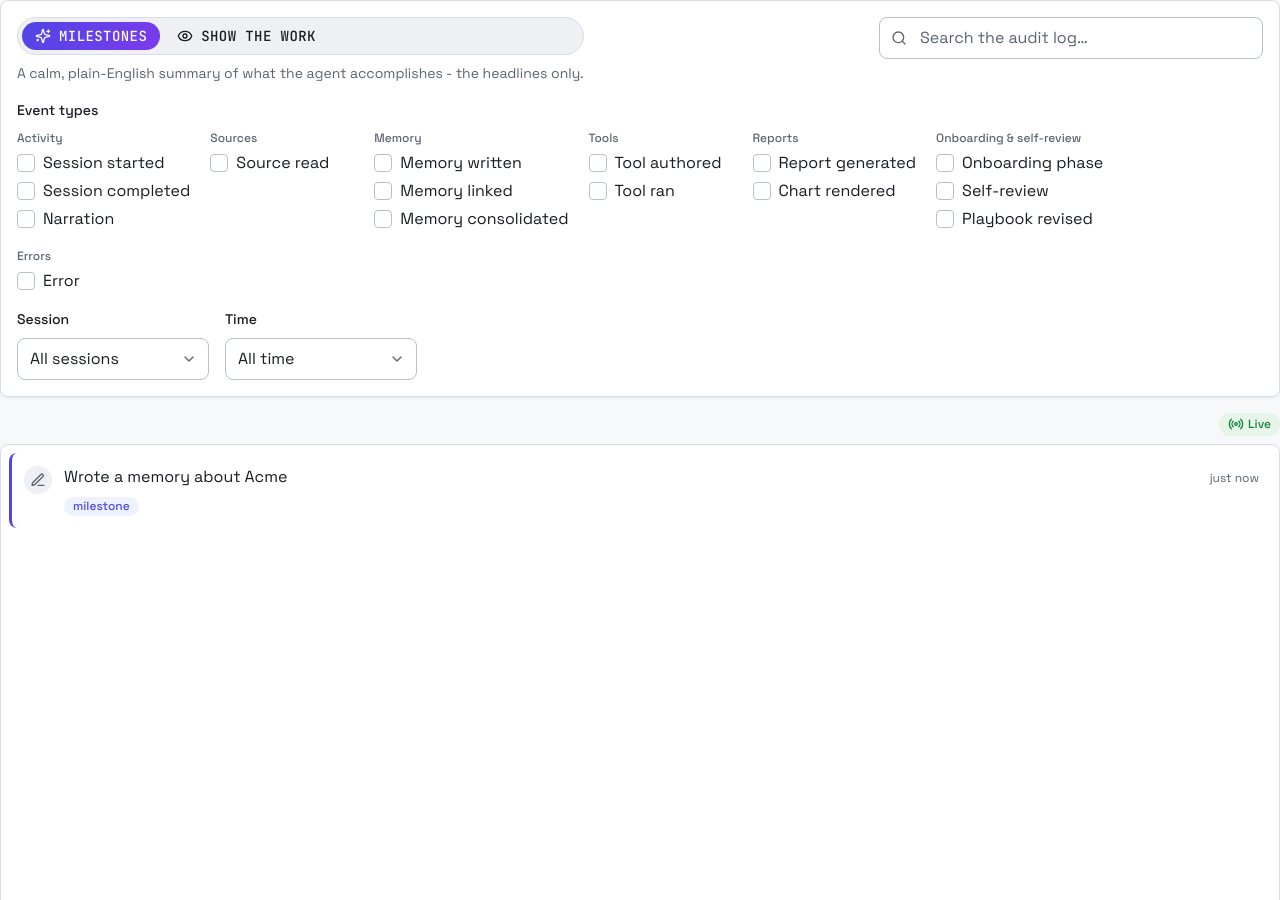
it: GlassCockpit › reveals detail after flipping the altitude toggle to Show the work
The image size is (1280, 900).
Click the radio button labelled "Show the work": [247, 36] box [164,22,329,50]
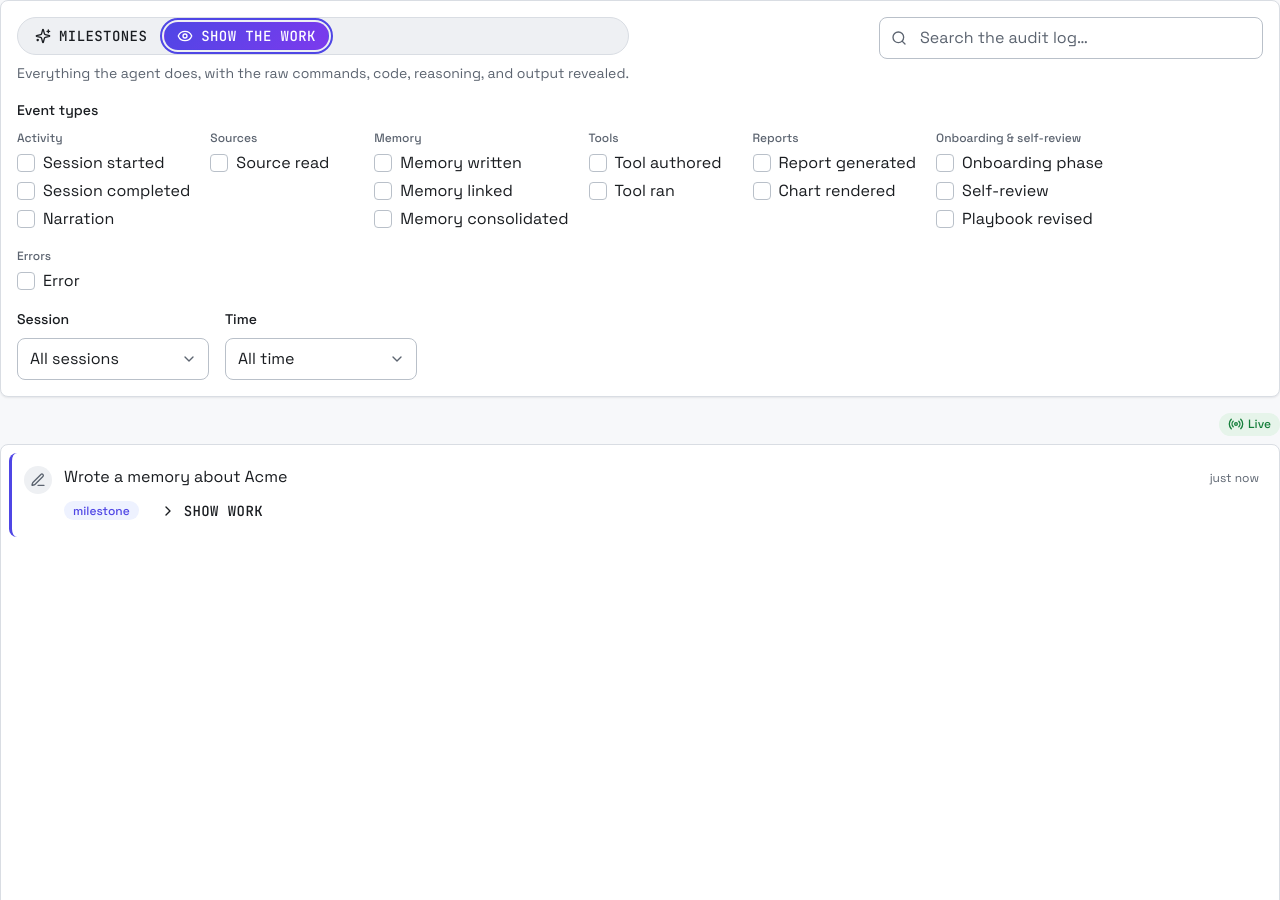
Click the button "Show work": [211, 511] box [147,497,276,525]
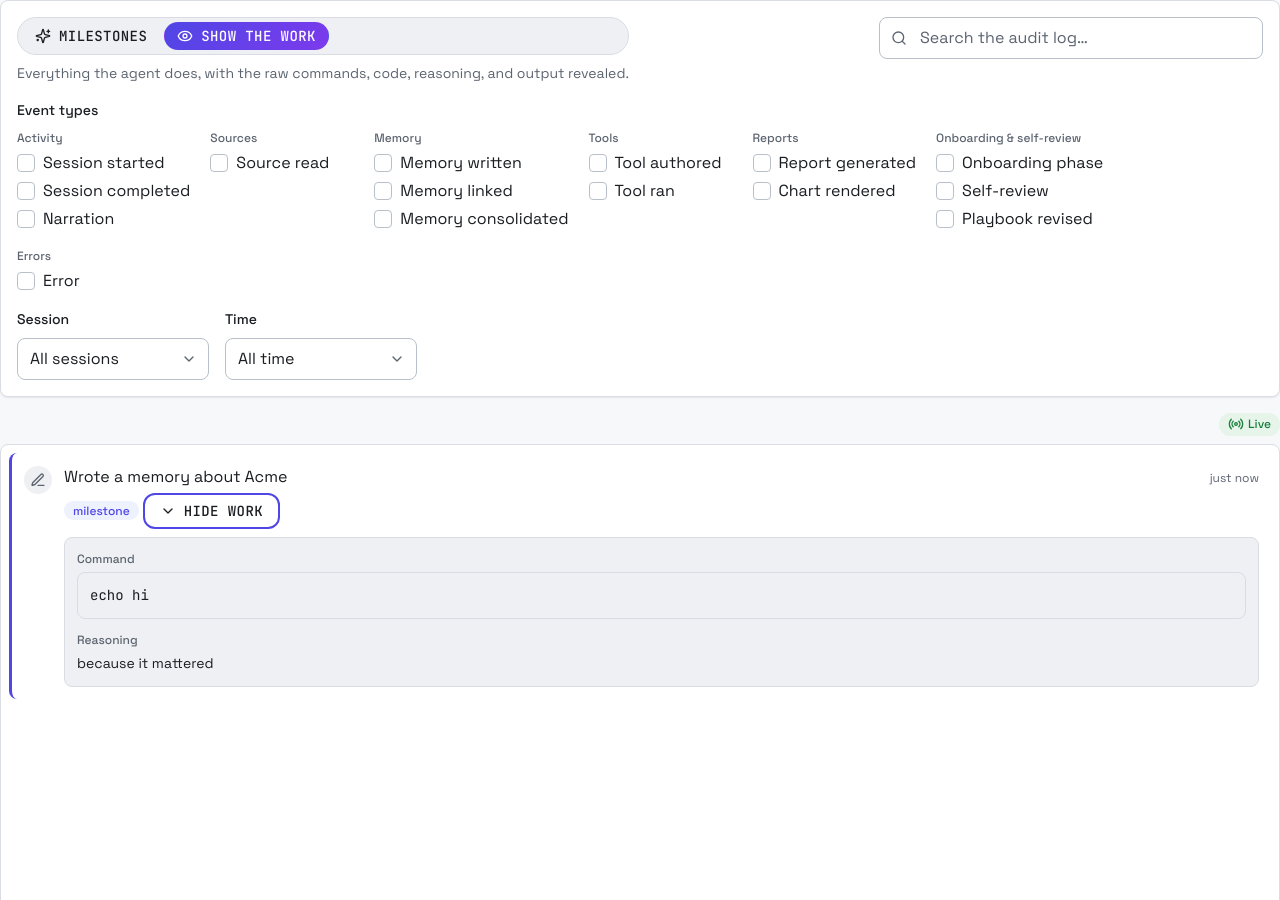
Expected: the text "echo hi" is shown, [90,586,149,604]
